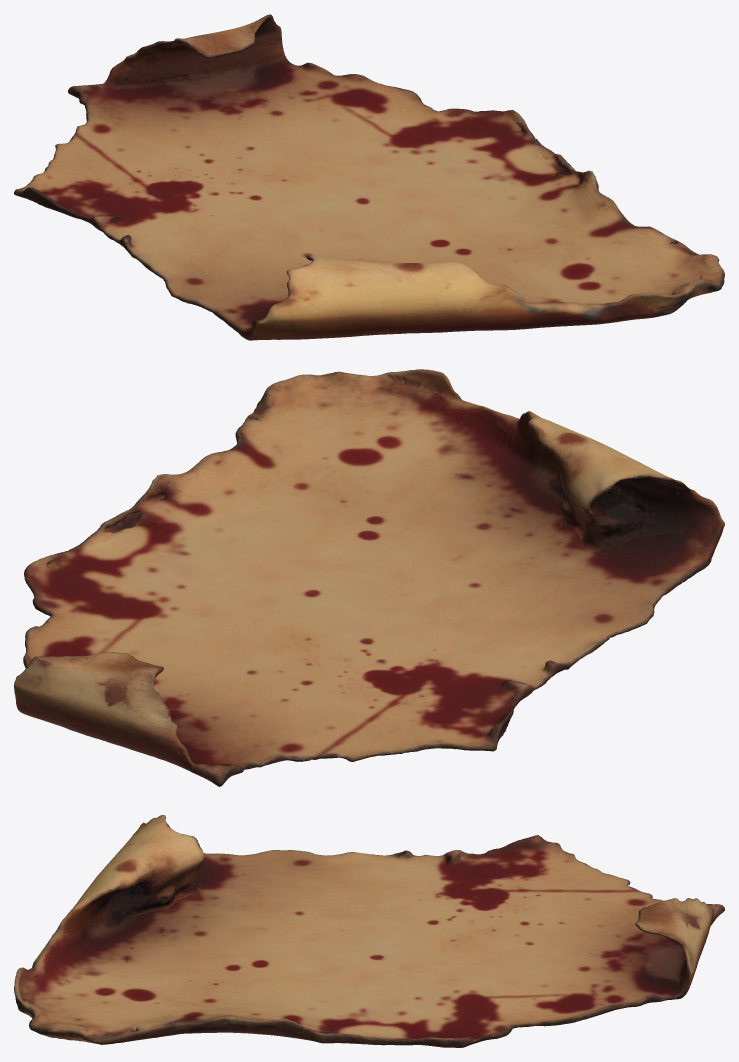
Rendered from Bloodstained_Parchmen_texture.fbx.
3 renders of one model, top to bottom at view 1: azimuth 30°, elevation 25°; view 2: azimuth 150°, elevation 25°; view 3: azimuth 270°, elevation 25°, orthographic. The views are drawn at different scales.
Visible parts, largest first — view 1: Mesh_0; view 2: Mesh_0; view 3: Mesh_0.
Boxes of the visible parts, box(x1,y1,x2,y2) form: Mesh_0: box(14, 14, 724, 340); Mesh_0: box(14, 369, 724, 786); Mesh_0: box(14, 815, 724, 1047).
Bounding box in the file's own units: 136 × 19.59 × 200.
1 material, 1 textured.
